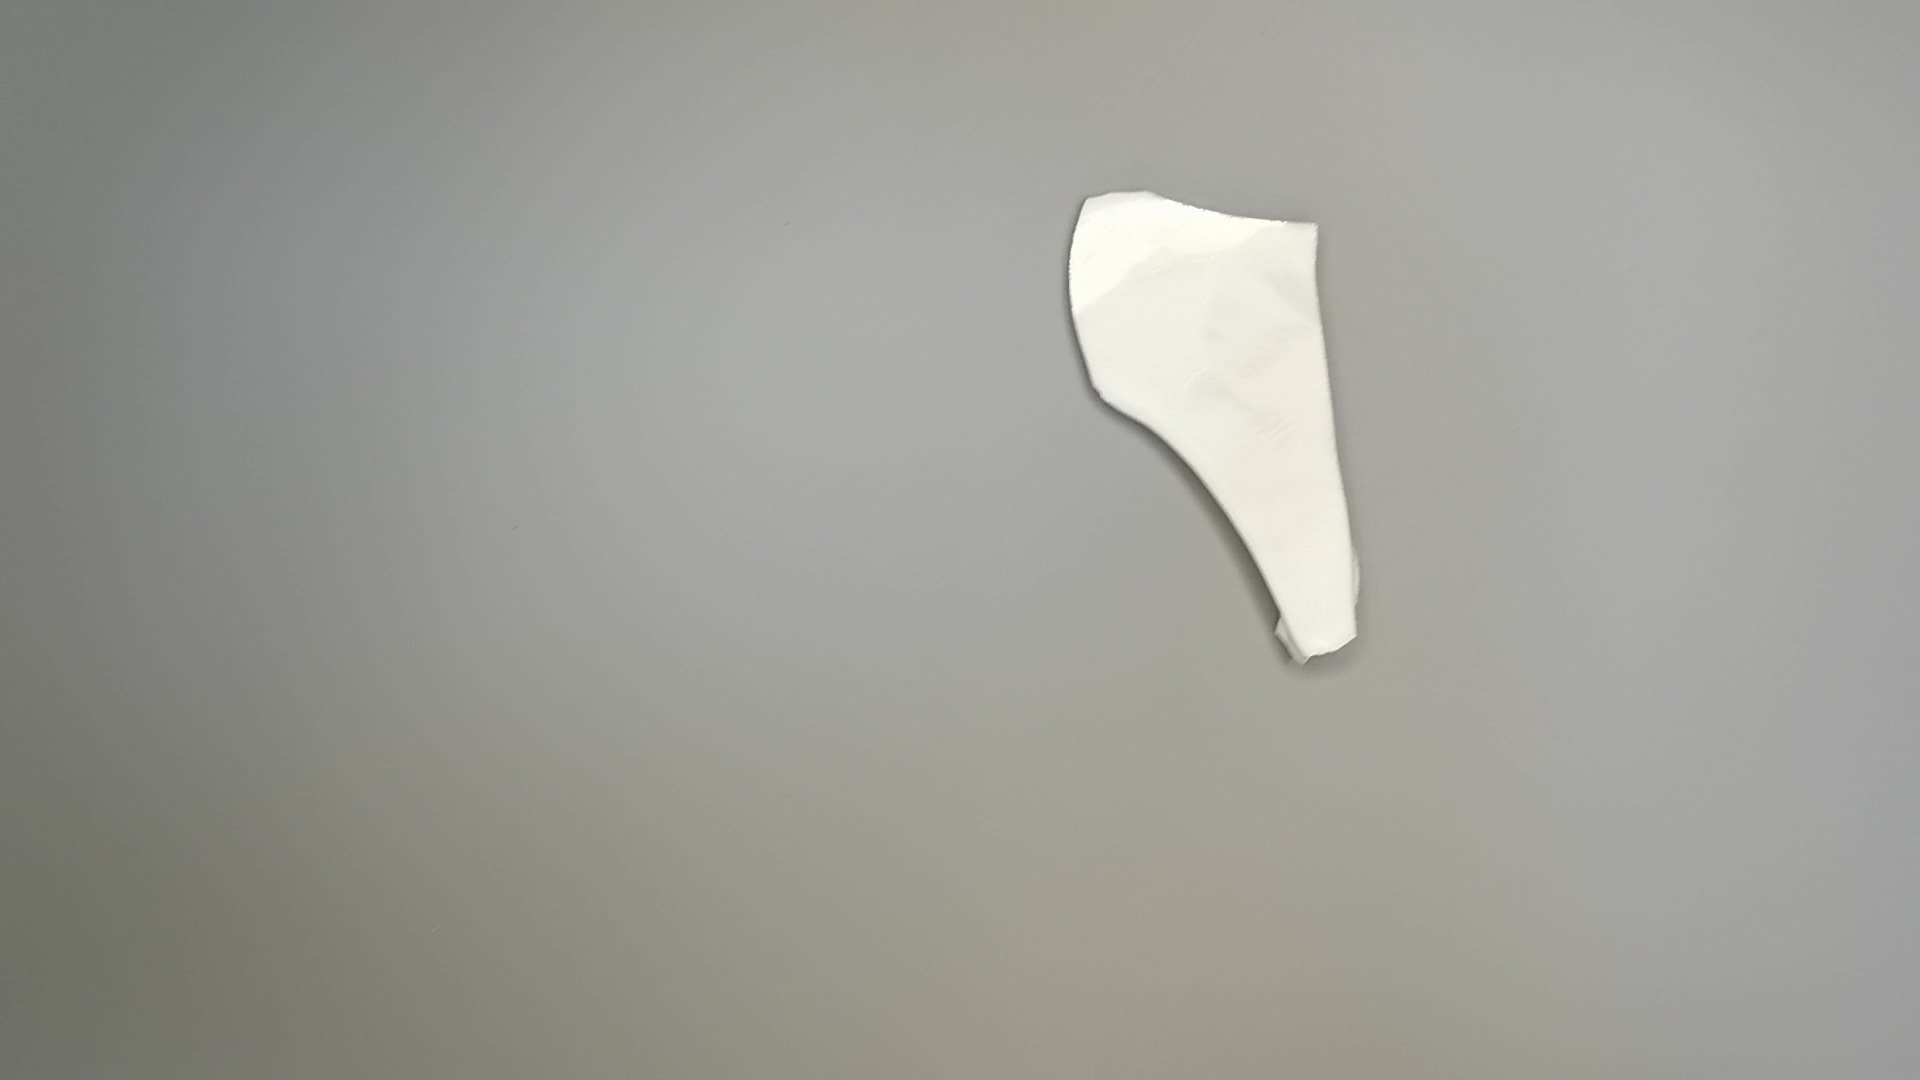ceramic: (1056, 190, 1354, 671)
